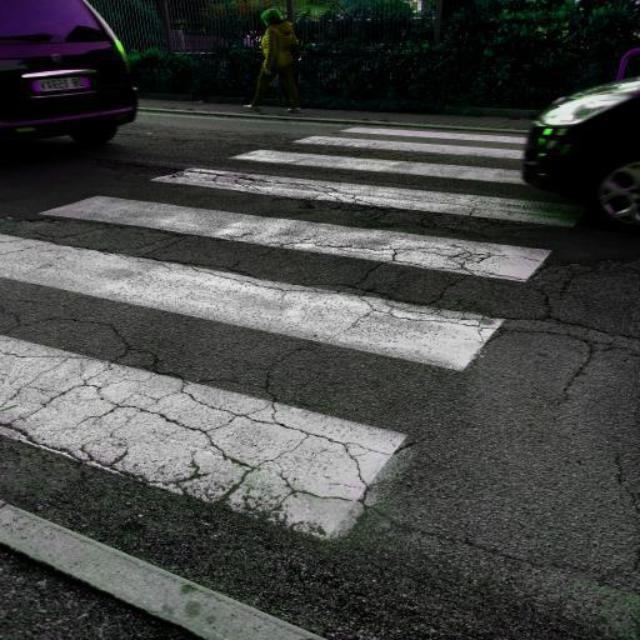sidewalk: (0, 126, 614, 543)
